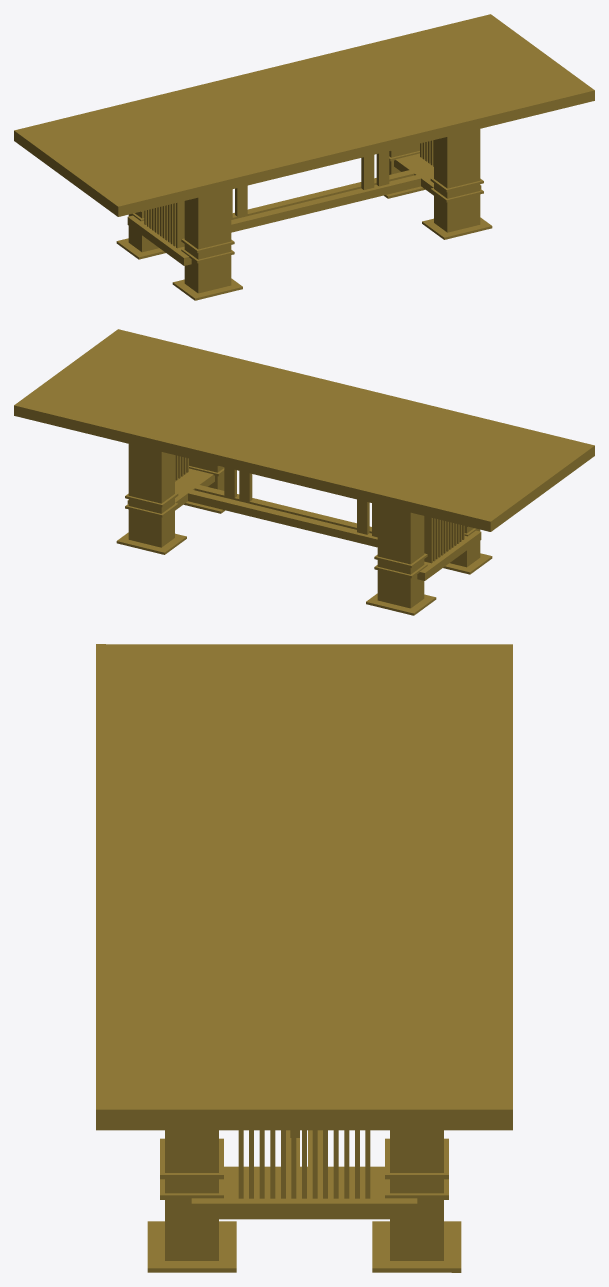
File: table.obj
3 renders of one model, top to bottom at view 1: azimuth 30°, elevation 25°; view 2: azimuth 150°, elevation 25°; view 3: azimuth 270°, elevation 25°, orthographic. The views are drawn at different scales.
Parts seen in each view (by area): view 1: flwt_top, flwt_legs, flwt_xbar, flwt_slats, flwt_base, flwt_shlfb, flwt_trim; view 2: flwt_top, flwt_legs, flwt_xbar, flwt_slats, flwt_base, flwt_shlfb, flwt_trim; view 3: flwt_top, flwt_legs, flwt_shlfb, flwt_slats, flwt_base, flwt_trim.
Part boxes in pixels (x1=…): flwt_top: x1=14, y1=14, x2=594, y2=216; flwt_legs: x1=128, y1=129, x2=480, y2=293; flwt_xbar: x1=231, y1=170, x2=420, y2=232; flwt_slats: x1=144, y1=140, x2=433, y2=248; flwt_base: x1=116, y1=178, x2=492, y2=300; flwt_shlfb: x1=127, y1=153, x2=481, y2=265; flwt_trim: x1=130, y1=143, x2=483, y2=263; flwt_top: x1=14, y1=329, x2=594, y2=531; flwt_legs: x1=128, y1=444, x2=480, y2=608; flwt_xbar: x1=188, y1=485, x2=377, y2=547; flwt_slats: x1=175, y1=455, x2=464, y2=563; flwt_base: x1=116, y1=494, x2=492, y2=615; flwt_shlfb: x1=127, y1=468, x2=481, y2=580; flwt_trim: x1=125, y1=458, x2=478, y2=578; flwt_top: x1=96, y1=644, x2=512, y2=1130; flwt_legs: x1=165, y1=1130, x2=443, y2=1260; flwt_shlfb: x1=191, y1=1166, x2=417, y2=1219; flwt_slats: x1=238, y1=1130, x2=370, y2=1198; flwt_base: x1=147, y1=1221, x2=461, y2=1272; flwt_trim: x1=160, y1=1138, x2=448, y2=1199.
Bounding box in the file's own units: 110 × 27.7 × 41.7.
